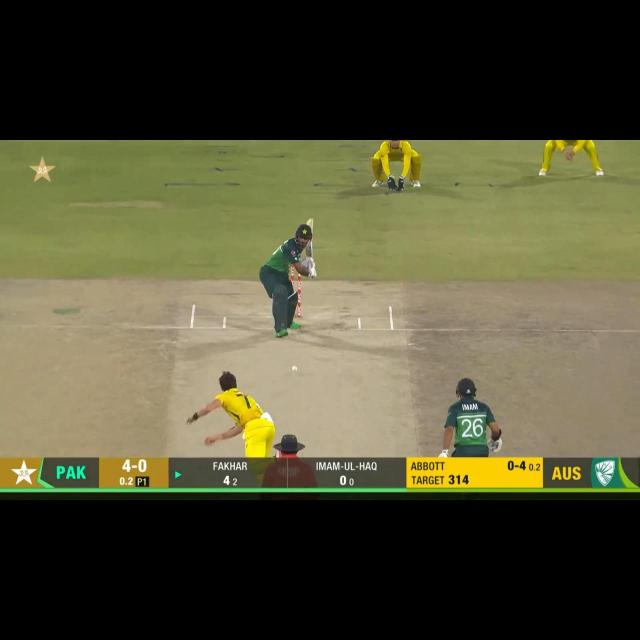bat: (304, 219, 315, 260)
toe: (303, 218, 317, 226)
